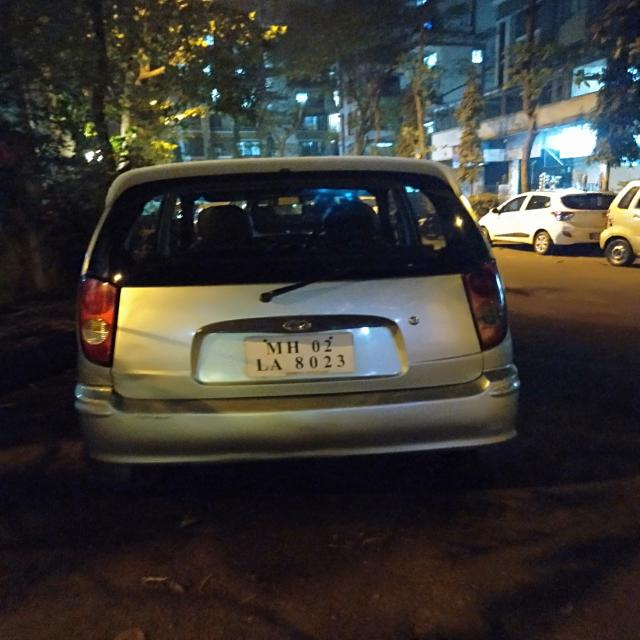Number-Plate: (239, 333, 351, 378)
